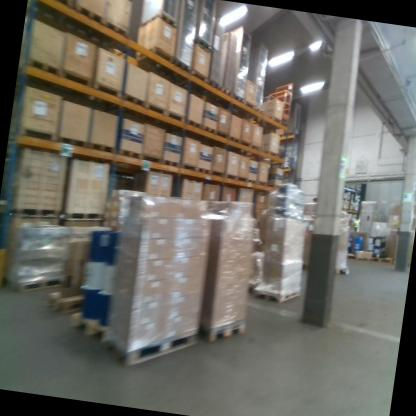pallet: (98, 309, 203, 376), (67, 310, 113, 348), (251, 278, 303, 311), (130, 42, 175, 77), (45, 283, 85, 322), (202, 313, 247, 346), (68, 3, 100, 38), (164, 54, 189, 85), (227, 90, 247, 120), (201, 78, 224, 101), (214, 85, 235, 107), (366, 251, 392, 267), (337, 250, 360, 268), (331, 262, 350, 281), (246, 102, 264, 120)
